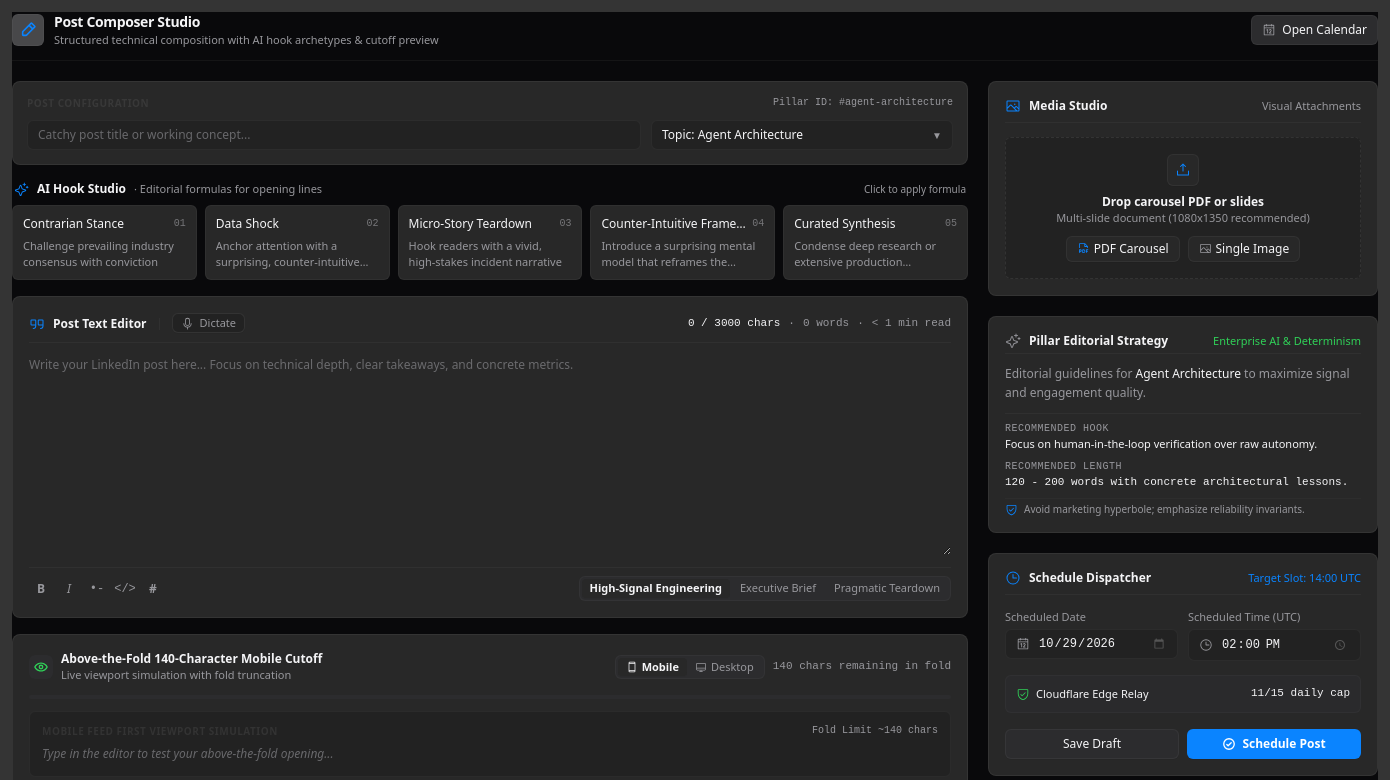
it: ComposerView › updates real-time character, word, and reading time counters as user types
Expected: the text with test id "char-counter" reads "0 / 3000 chars", [688, 316, 780, 331]
Expected: the text with test id "word-counter" reads "0 words", [803, 316, 849, 331]
Step 1. Replace the text in the text box with test id "post-content-editor" with "Testing autonomous agent workflows with deterministic state machines and human in the loop verification." → [490, 455], box [29, 355, 951, 555]
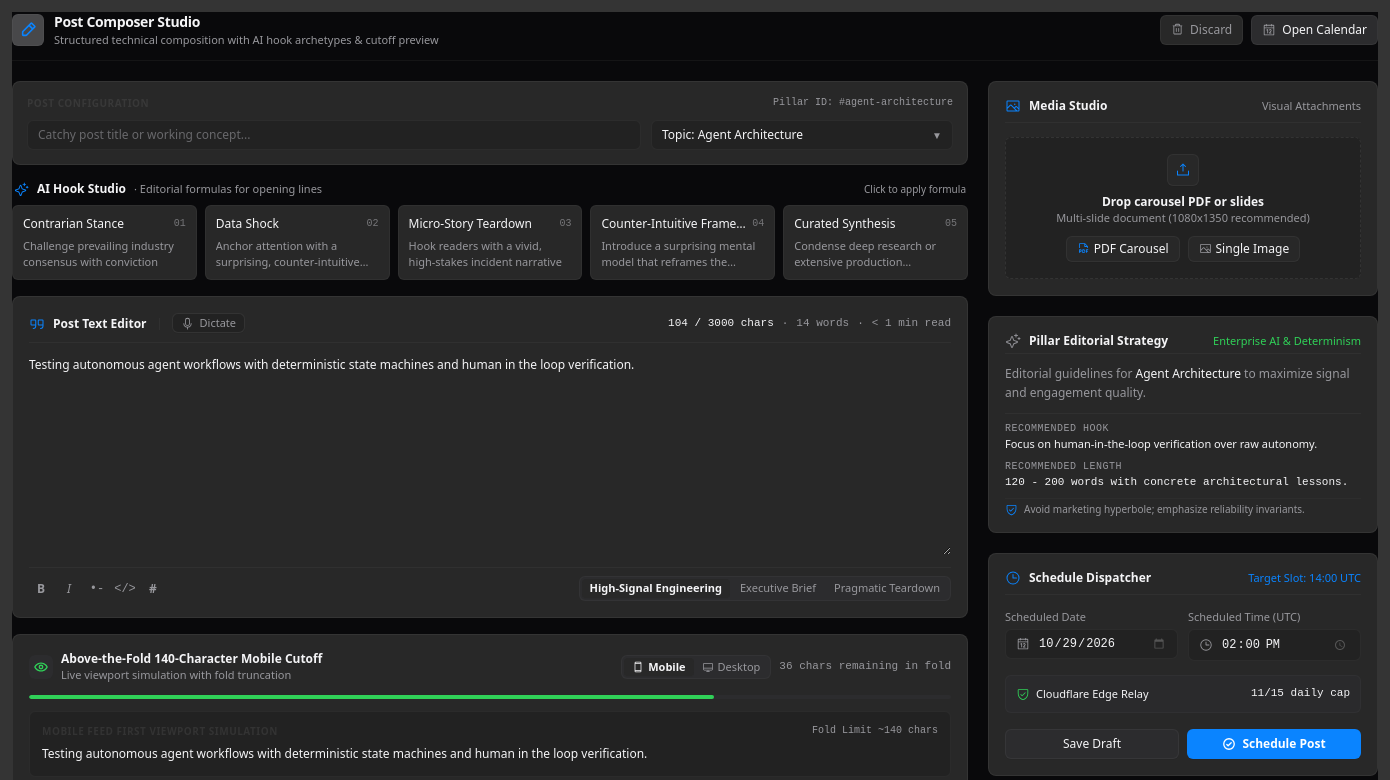
Now the text with test id "char-counter" reads "104 / 3000 chars", box [668, 316, 774, 331]
Now the text with test id "word-counter" reads "14 words", box [796, 316, 849, 331]
